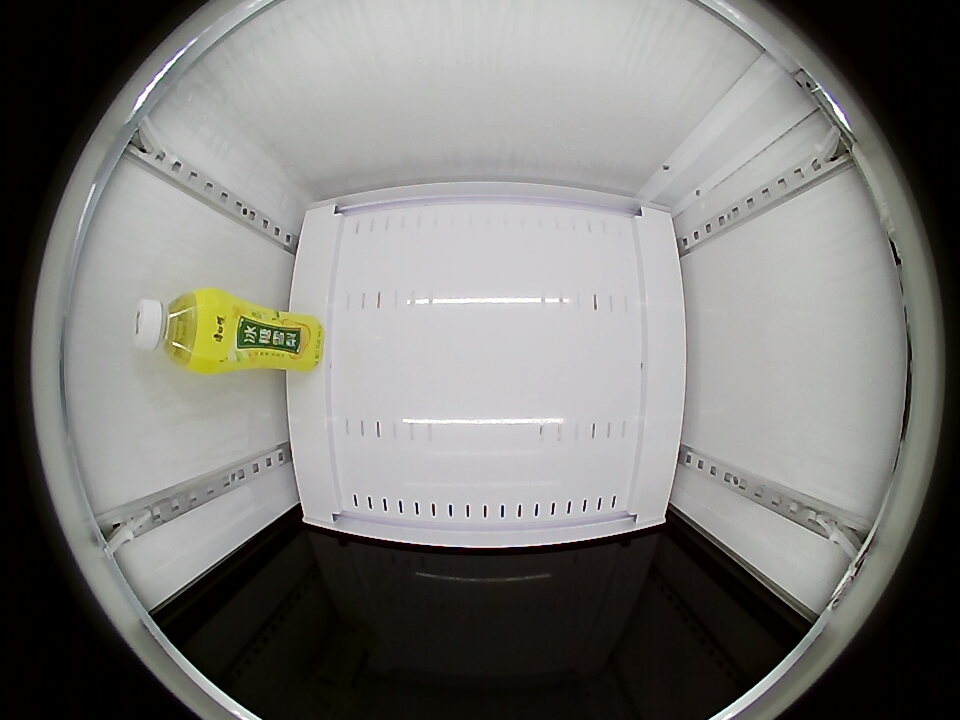bingtangxueli: (132, 288, 225, 372)
